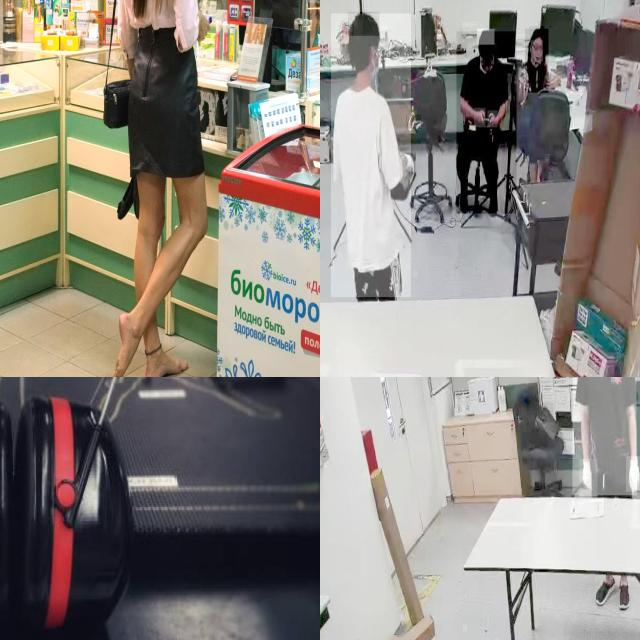Barefoots: (112, 312, 130, 377), (145, 357, 188, 377)
Ear-protection: (0, 377, 156, 629)
face_nomask: (531, 41, 543, 62)
hand_glove: (580, 459, 598, 499), (626, 456, 640, 492)
hand_noglove: (474, 108, 486, 128), (488, 110, 498, 128)
head_nohelmet: (348, 12, 380, 36), (477, 28, 495, 46), (529, 26, 545, 39)
person: (331, 14, 411, 298), (457, 32, 517, 215), (572, 377, 637, 496), (525, 28, 549, 94)
shoes: (595, 572, 615, 607), (616, 572, 632, 614), (482, 189, 502, 219), (456, 182, 470, 216)
